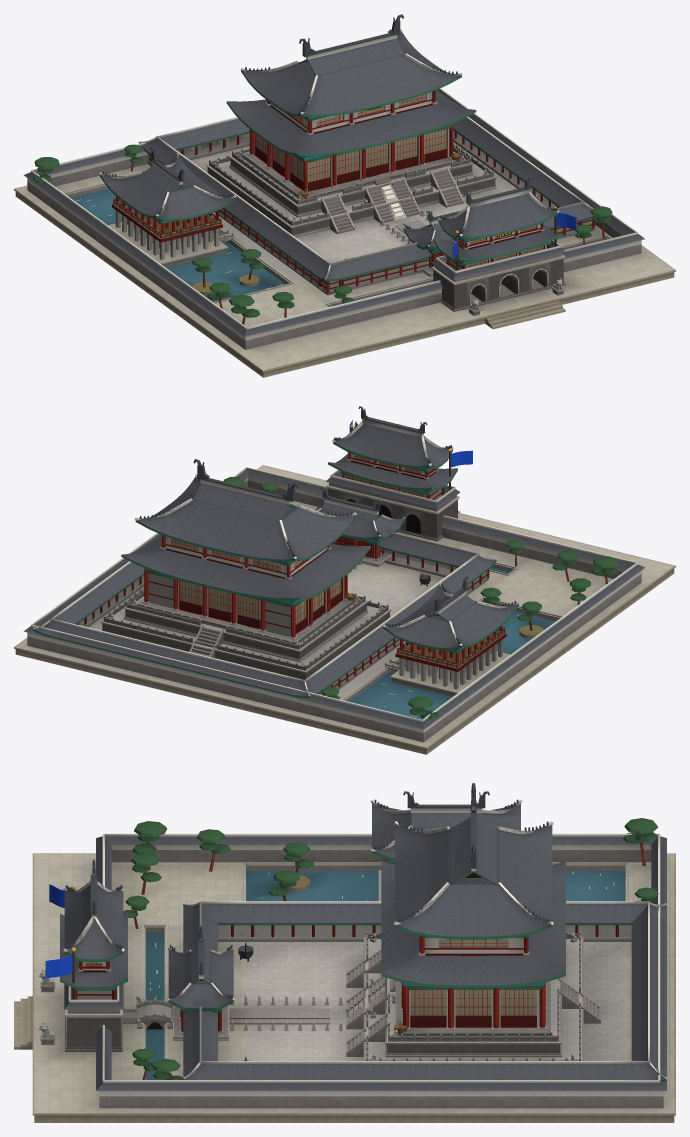
File: lm_gyeongbok.glb
3 views of the same model, one above another, from view 1: azimuth 30°, elevation 25°; view 2: azimuth 150°, elevation 25°; view 3: azimuth 270°, elevation 25° (orthographic). The views are drawn at different scales.
Visible parts, largest first — view 1: lm_gyeongbok; view 2: lm_gyeongbok; view 3: lm_gyeongbok.
Boxes of the visible parts, x1,y1,x2,y2 form: lm_gyeongbok: (14, 14, 675, 377); lm_gyeongbok: (14, 406, 675, 754); lm_gyeongbok: (14, 783, 675, 1122).
Size of the model in its own units: 2.27 by 0.8598 by 2.44.
1 material, 1 textured.
